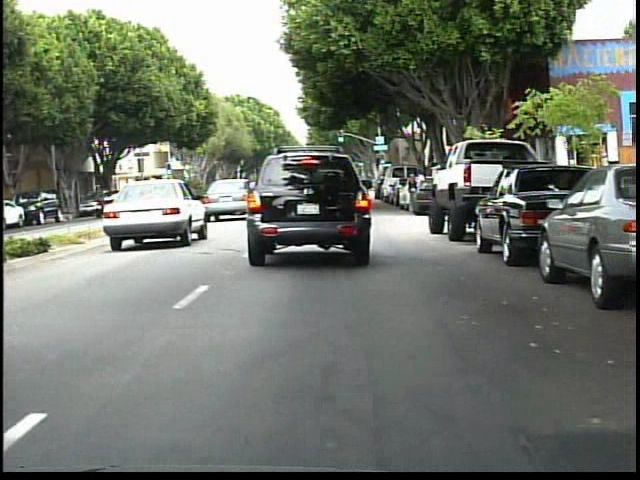person: (405, 169, 419, 217), (414, 167, 429, 207)
